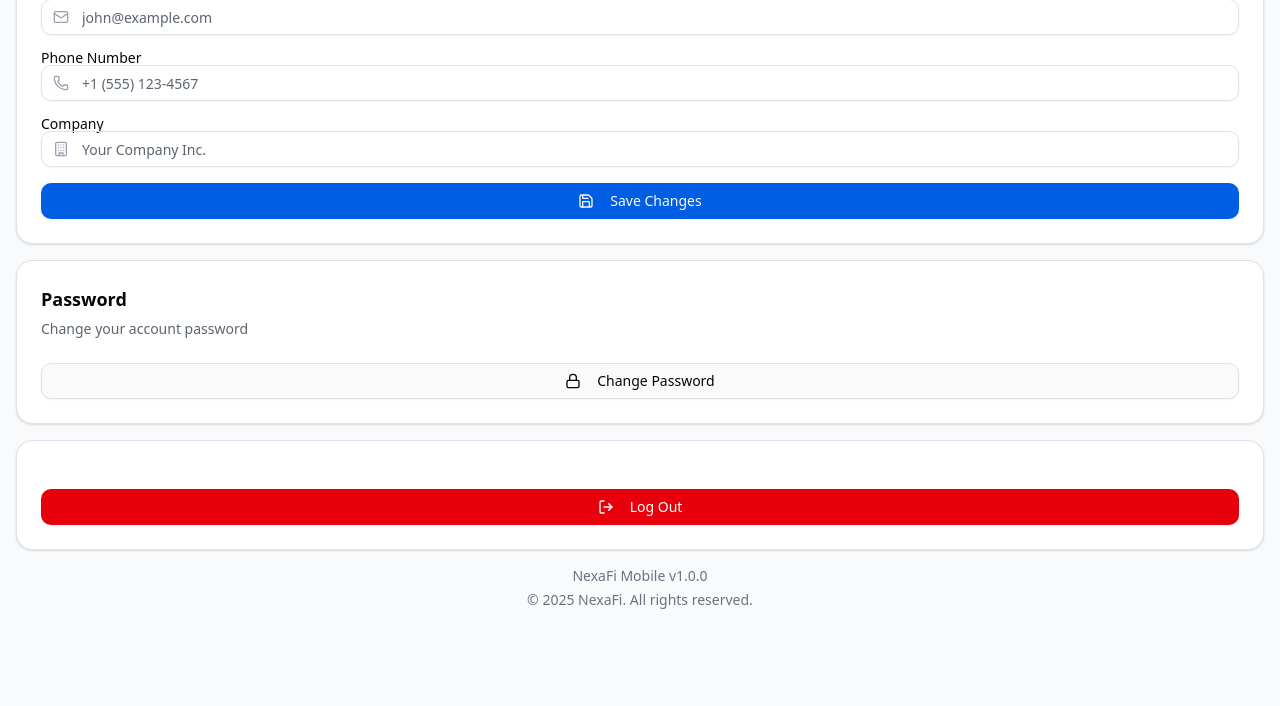
Test: MobileSettingsModule › opens logout confirmation dialog
(page scrolled)
Click the button "Log Out" at (640,507), box [41, 489, 1239, 525]
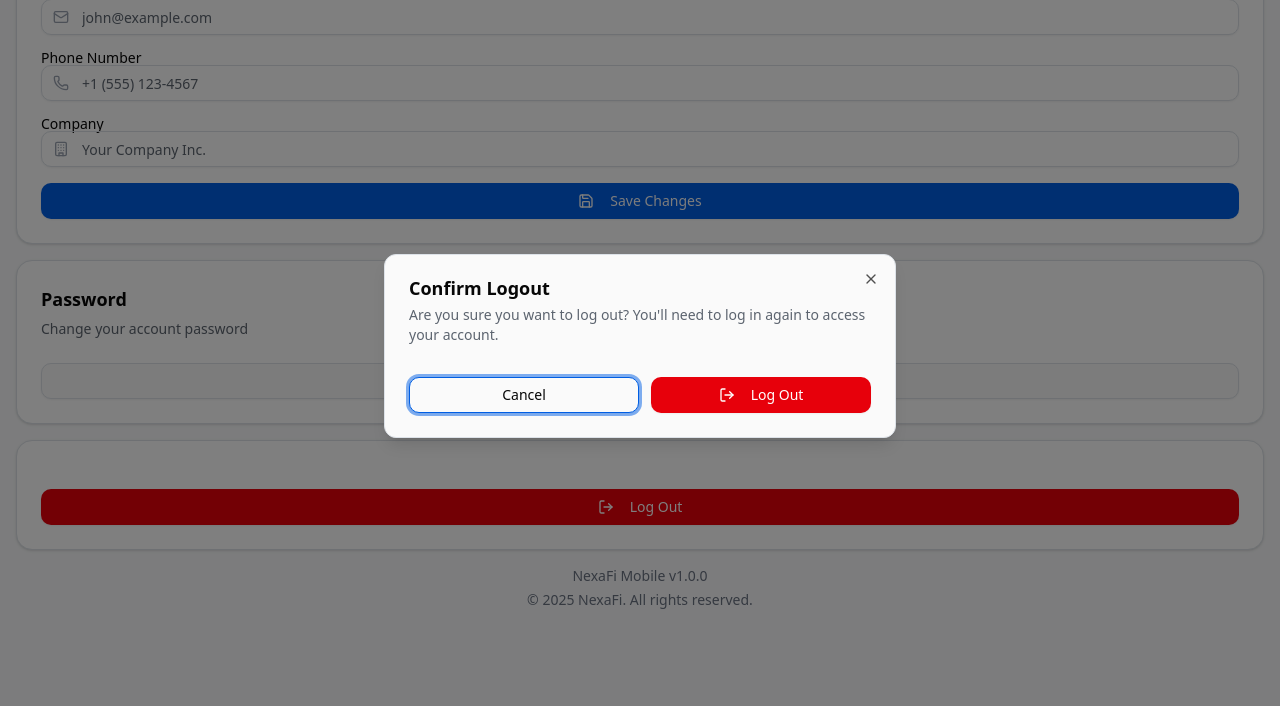
Now the heading "Confirm Logout" is shown, box [409, 276, 550, 300]
